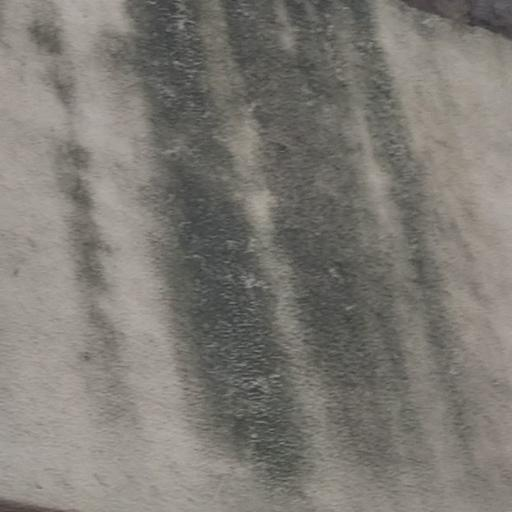algae: (29, 0, 501, 472)
